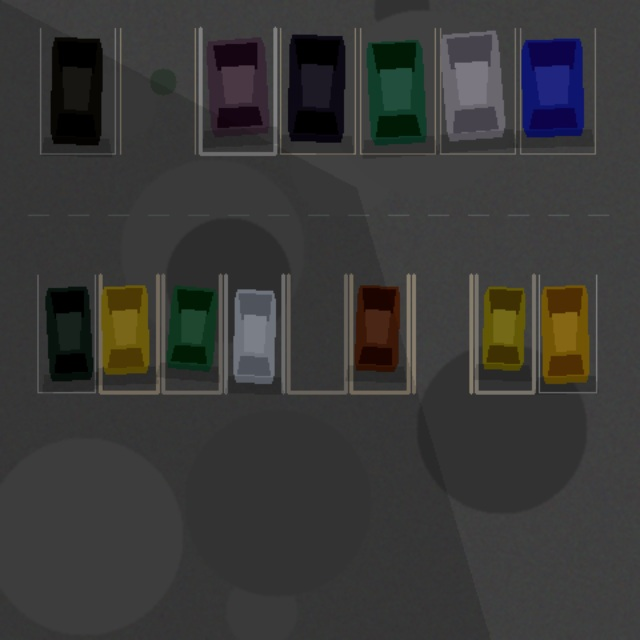space-empty: (120, 28, 195, 153), (413, 275, 471, 392), (288, 275, 345, 392)
space-occupied: (40, 28, 115, 153), (200, 28, 275, 153), (280, 28, 355, 153), (360, 28, 435, 153), (440, 28, 515, 153), (520, 28, 595, 153), (37, 275, 95, 392), (225, 275, 283, 392), (100, 275, 157, 392), (163, 275, 220, 392), (351, 275, 408, 392), (476, 275, 533, 392), (539, 275, 596, 392)
